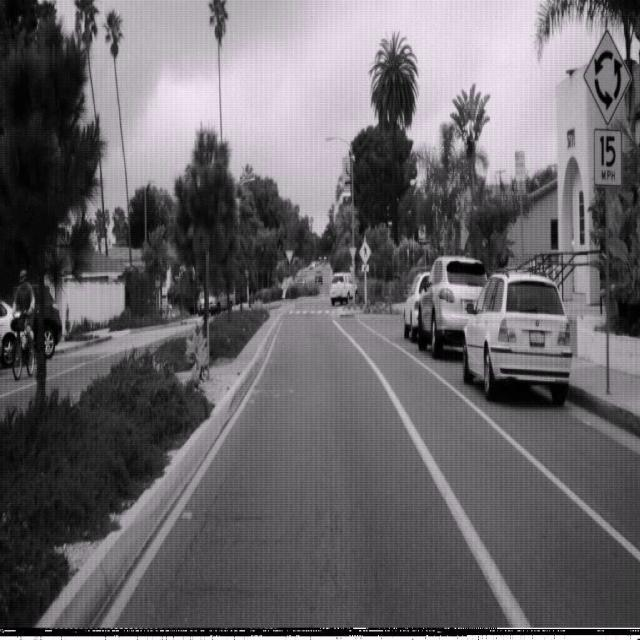pedestrianCrossing: (358, 239, 372, 264)
